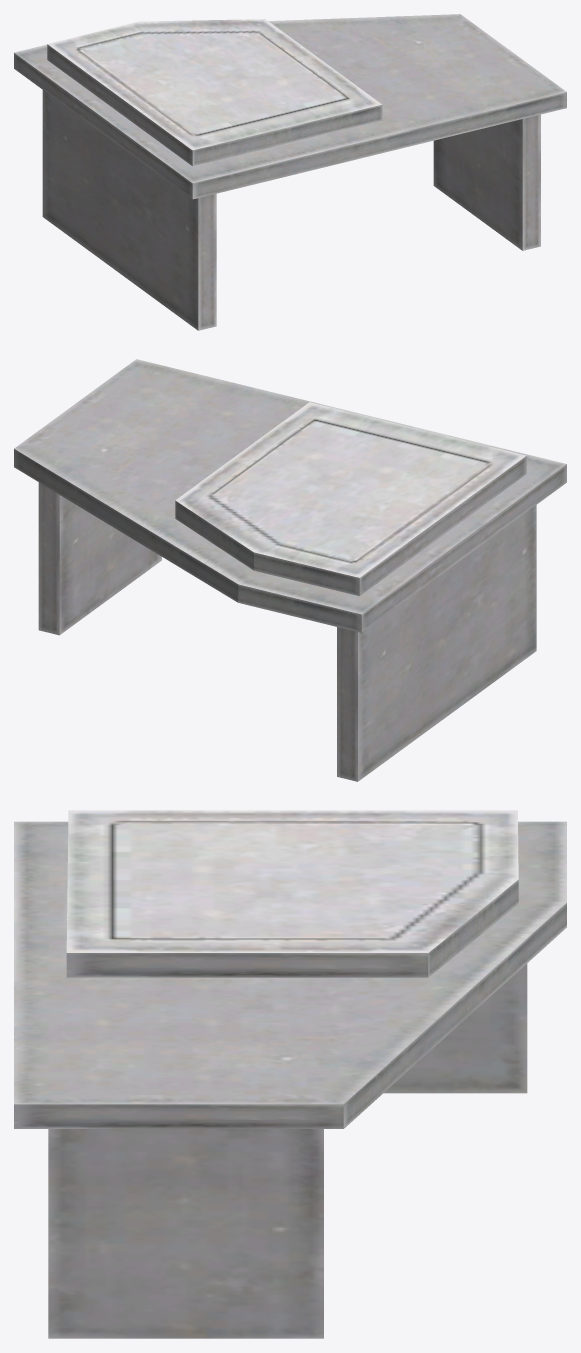
File: frn_all_plan_end_table_s01.fbx
3 views of the same model, one above another, from view 1: azimuth 30°, elevation 25°; view 2: azimuth 150°, elevation 25°; view 3: azimuth 270°, elevation 25° (orthographic). The views are drawn at different scales.
Visible parts, largest first — view 1: mesh_node; view 2: mesh_node; view 3: mesh_node.
Part boxes in pixels (left/top/right/bottom): mesh_node: left=14, top=14, right=566, bottom=330; mesh_node: left=14, top=359, right=566, bottom=781; mesh_node: left=14, top=810, right=566, bottom=1338.
Size of the model in its own units: 1 by 0.448 by 0.8301.
